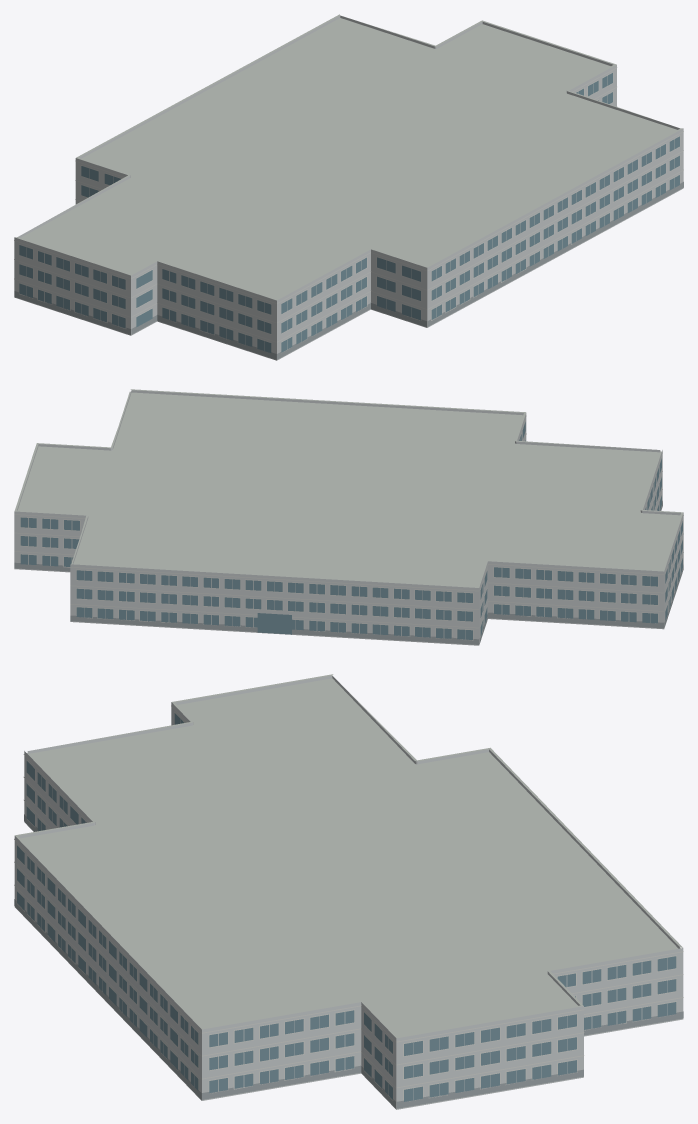
The model's file is public-64400f3d-dd33-4e44-8e8a-6c2091bfdc4f.glb.
The picture shows the model from 3 angles, top to bottom: view 1: azimuth 30°, elevation 25°; view 2: azimuth 150°, elevation 25°; view 3: azimuth 270°, elevation 25°; orthographic projection. The views are drawn at different scales.
Visible parts, largest first — view 1: public-64400f3d-dd33-4e44-8e8a-6c2091bfdc4f; view 2: public-64400f3d-dd33-4e44-8e8a-6c2091bfdc4f; view 3: public-64400f3d-dd33-4e44-8e8a-6c2091bfdc4f.
Boxes of the visible parts, x1,y1,x2,y2 form: public-64400f3d-dd33-4e44-8e8a-6c2091bfdc4f: [14, 14, 683, 360]; public-64400f3d-dd33-4e44-8e8a-6c2091bfdc4f: [14, 389, 683, 645]; public-64400f3d-dd33-4e44-8e8a-6c2091bfdc4f: [14, 674, 683, 1109].
Size of the model in its own units: 100 by 9.15 by 77.64.
